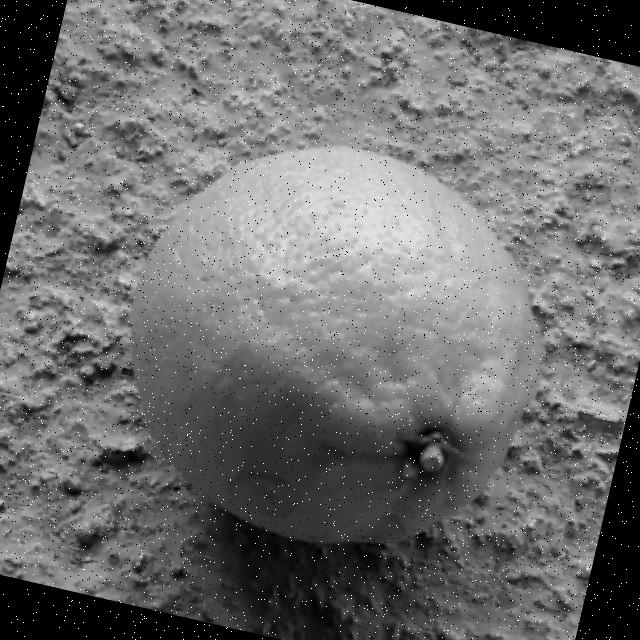Ripe: (75, 97, 588, 593)
